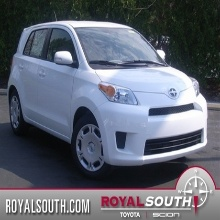no damage: (7, 19, 209, 180)
